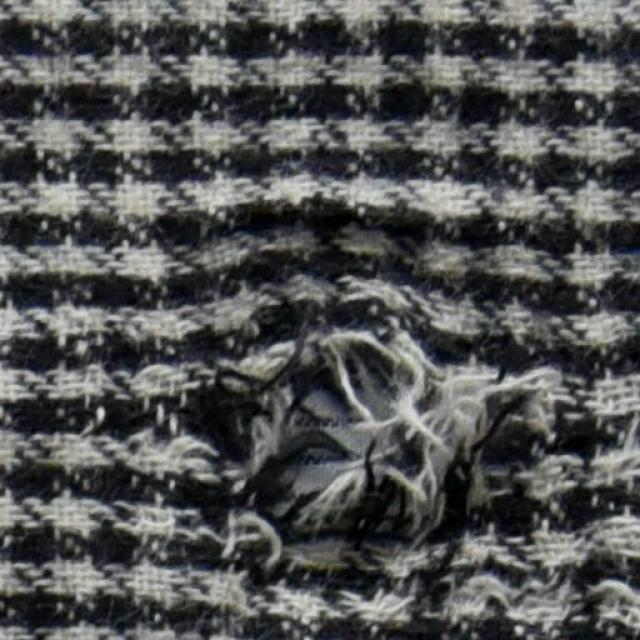Hole: (273, 361, 383, 517)
Snag: (141, 240, 570, 606)
